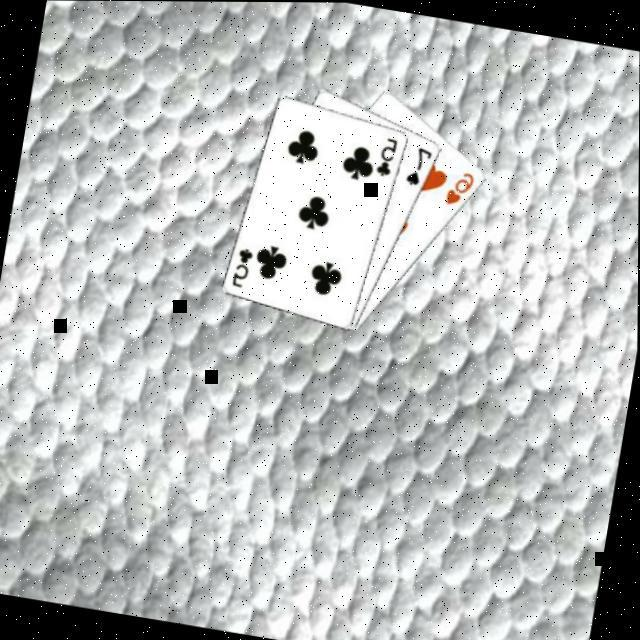5C: (371, 134, 400, 182), (228, 245, 256, 292)
6H: (441, 168, 477, 212)
7S: (400, 144, 436, 192)
